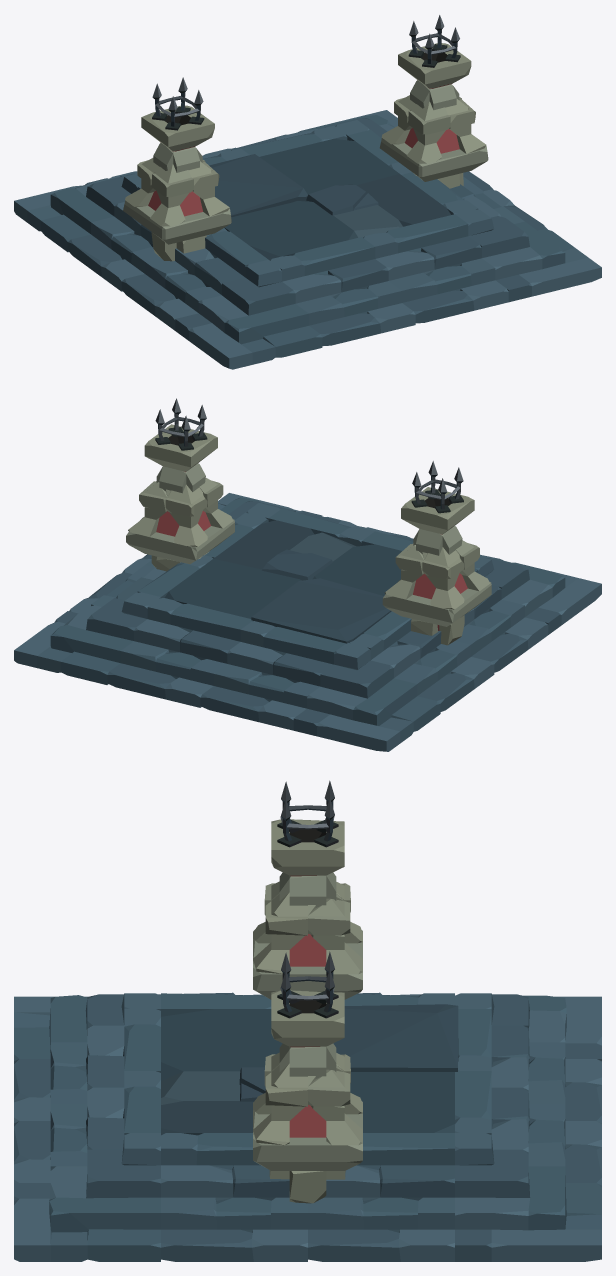
The model's file is level_element_platform_large_01.fbx.
3 views of the same model, one above another, from view 1: azimuth 30°, elevation 25°; view 2: azimuth 150°, elevation 25°; view 3: azimuth 270°, elevation 25° (orthographic). The views are drawn at different scales.
Visible parts, largest first — view 1: level_element_platform_large_01; view 2: level_element_platform_large_01; view 3: level_element_platform_large_01.
Part boxes in pixels (left/top/right/bottom): level_element_platform_large_01: left=14, top=15, right=601, bottom=369; level_element_platform_large_01: left=14, top=398, right=601, bottom=751; level_element_platform_large_01: left=14, top=780, right=601, bottom=1261.
Size of the model in its own units: 800 by 398 by 800.
